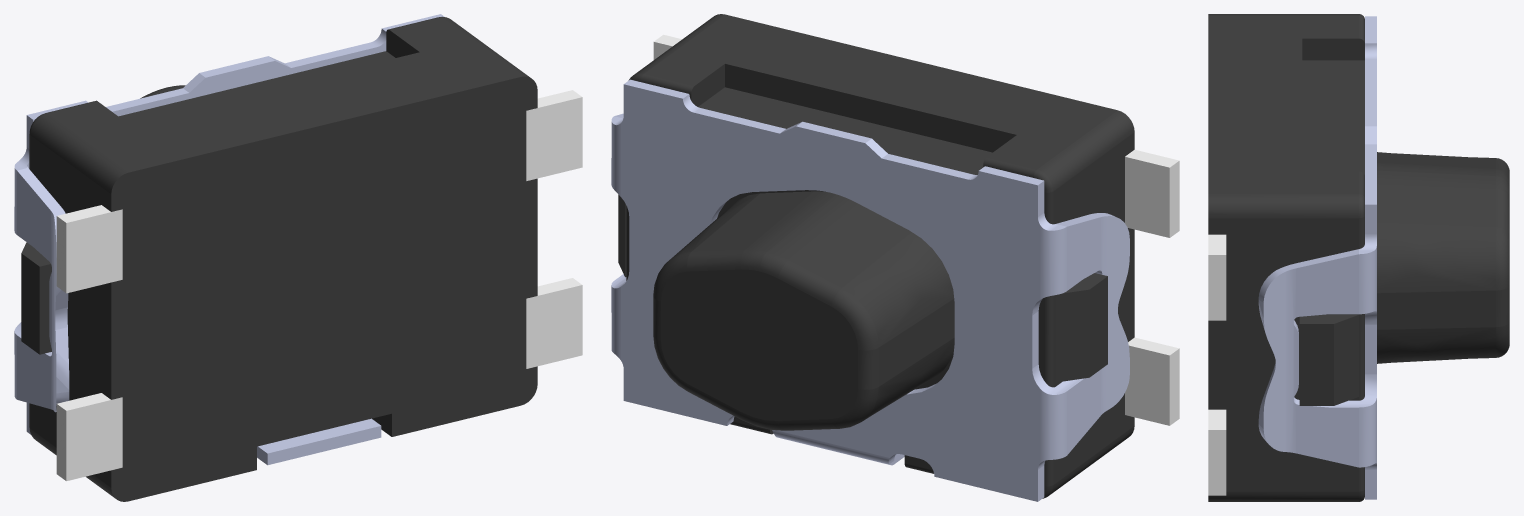
File: sfe-push_smd_4.6x2.8mm.glb
The picture shows the model from 3 angles, left to right: view 1: azimuth 30°, elevation 25°; view 2: azimuth 150°, elevation 25°; view 3: azimuth 270°, elevation 25°; orthographic projection. The views are drawn at different scales.
Parts seen in each view (by area): view 1: 0.08333333333333333_0.08333333333333333_0.08333333333333333_, 1_1_1_0.85, 0.5833333333333334_0.6666666666666666_0.8333333333333334_0; view 2: 0.08333333333333333_0.08333333333333333_0.08333333333333333_, 0.5833333333333334_0.6666666666666666_0.8333333333333334_0, 1_1_1_0.85; view 3: 0.08333333333333333_0.08333333333333333_0.08333333333333333_, 0.5833333333333334_0.6666666666666666_0.8333333333333334_0, 1_1_1_0.85.
Boxes of the visible parts, x1,y1,x2,y2 form: 0.08333333333333333_0.08333333333333333_0.08333333333333333_: (21, 16, 537, 501); 1_1_1_0.85: (56, 90, 582, 481); 0.5833333333333334_0.6666666666666666_0.8333333333333334_0: (14, 14, 444, 465); 0.08333333333333333_0.08333333333333333_0.08333333333333333_: (618, 14, 1134, 498); 0.5833333333333334_0.6666666666666666_0.8333333333333334_0: (611, 79, 1129, 501); 1_1_1_0.85: (653, 34, 1179, 425); 0.08333333333333333_0.08333333333333333_0.08333333333333333_: (1208, 14, 1509, 501); 0.5833333333333334_0.6666666666666666_0.8333333333333334_0: (1258, 16, 1376, 499); 1_1_1_0.85: (1208, 234, 1226, 495).
Size of the model in its own units: 0.46 by 0.28 by 0.25.
